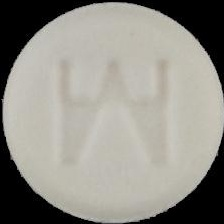53808-1074: (0, 0, 224, 224)
